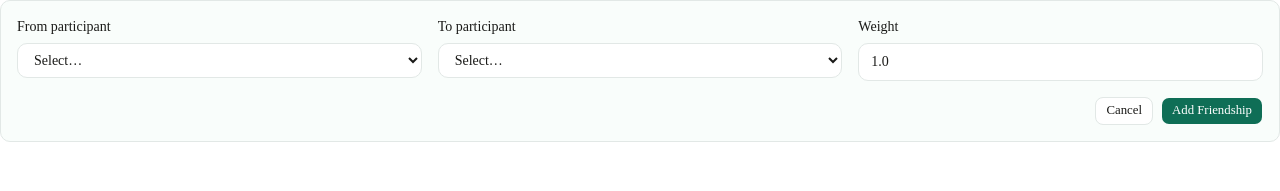
Test: AffinityForm › shows a self-reference error when from and to are the same participant
Select "Alice" in the dropdown labelled "From participant" at coordinates (219, 60), box [17, 43, 422, 78]
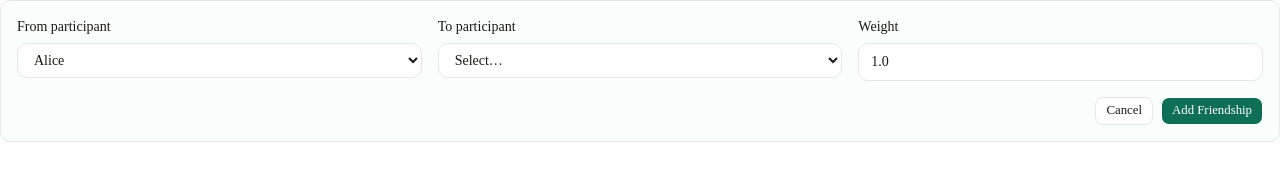
Select "Alice" in the dropdown labelled "To participant" at coordinates (640, 60), box [438, 43, 842, 78]
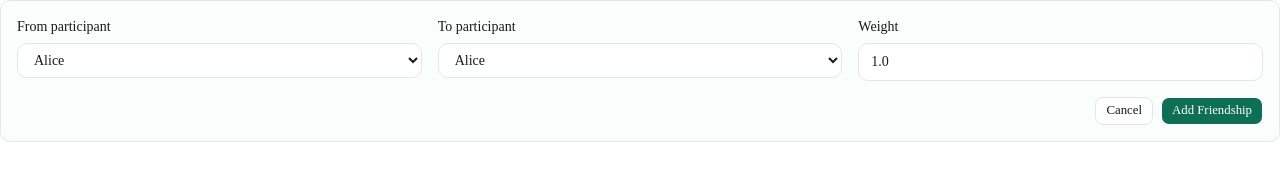
Click the button "Add Friendship" at coordinates (1212, 111), box [1161, 97, 1263, 125]
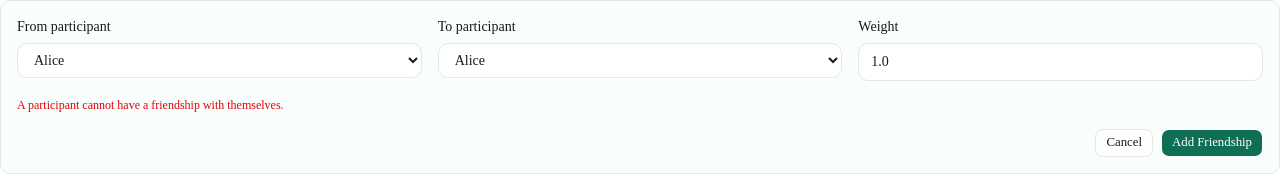
Now the message shows "themselves", box [17, 98, 284, 112]
